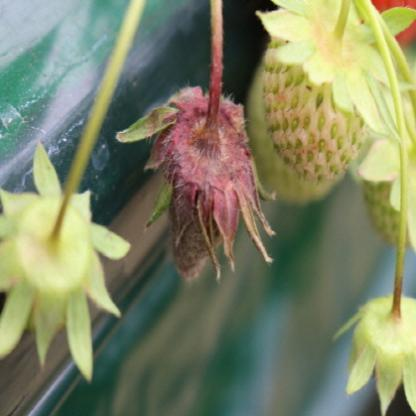Strawberry_Gray_Mold: (143, 45, 278, 282)
